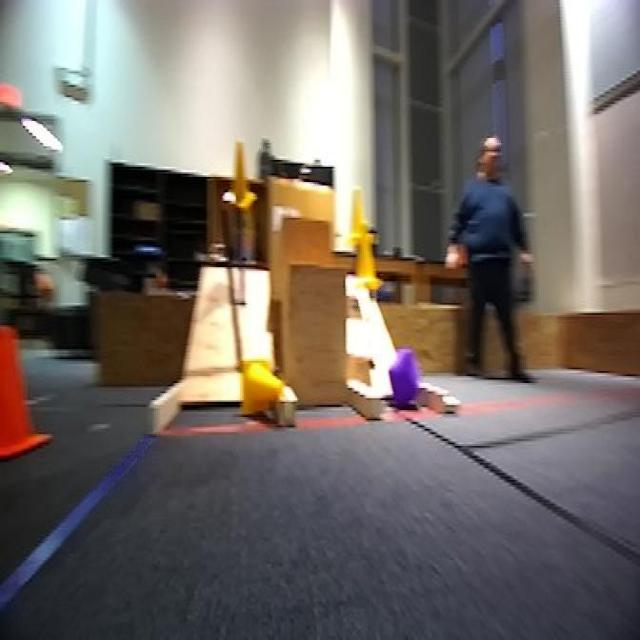frc_cone: (227, 136, 261, 211), (242, 363, 289, 417), (354, 221, 383, 286), (352, 190, 378, 243)
frc_cube: (388, 354, 418, 403)
